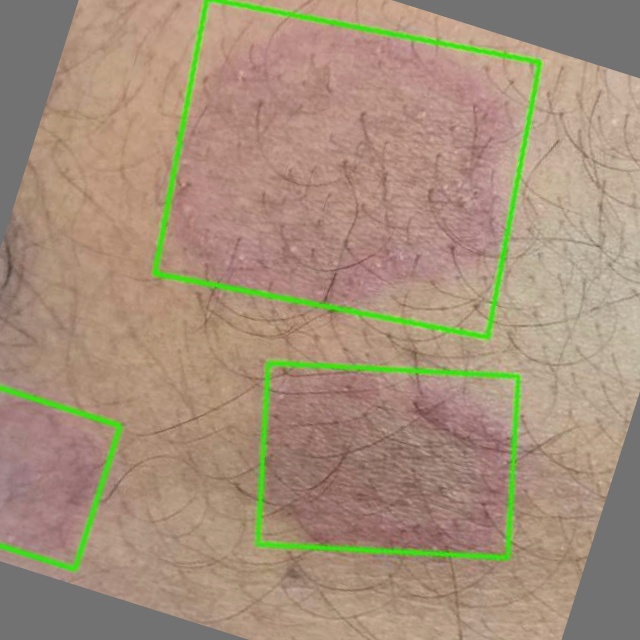Eczema: (155, 0, 540, 337), (258, 363, 518, 558), (0, 388, 120, 569)
